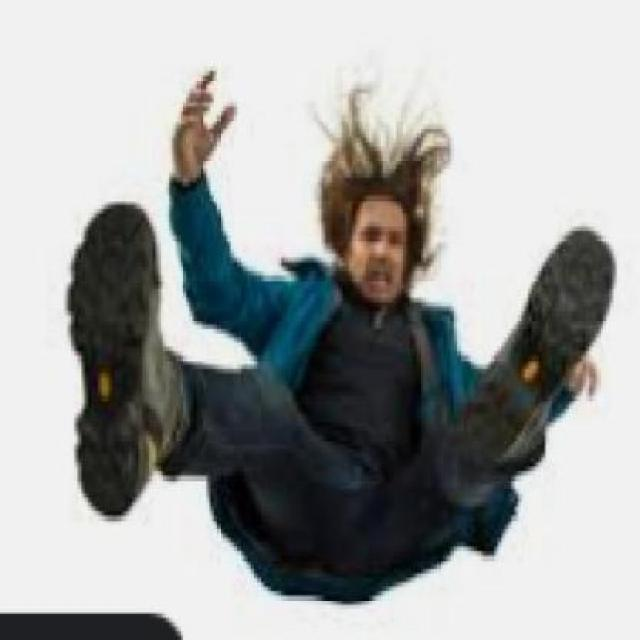fall: (57, 44, 608, 584)
